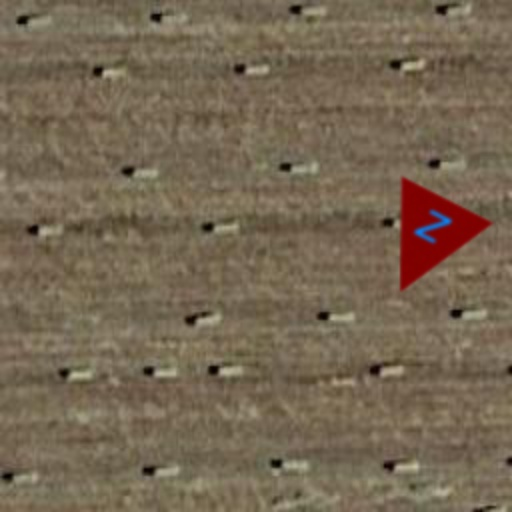triangle: (352, 174, 496, 318)
